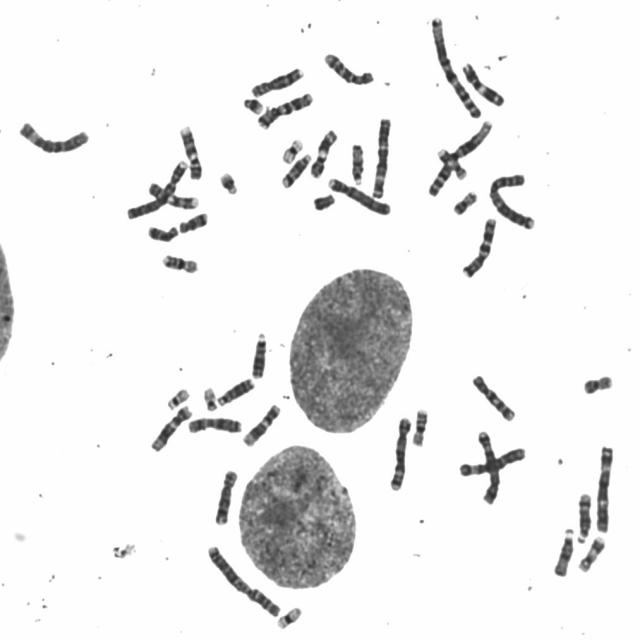A1: (427, 10, 485, 120), (424, 114, 496, 198)
A2: (203, 538, 284, 620), (486, 167, 539, 230)
A3: (368, 111, 395, 199), (592, 439, 617, 533)
B4: (122, 154, 190, 222), (324, 171, 395, 217)
B5: (473, 424, 503, 506), (386, 410, 414, 493)
C10: (468, 368, 519, 422), (321, 46, 378, 86)
C11: (458, 56, 508, 108), (307, 124, 341, 179)
C12: (148, 399, 195, 453), (240, 398, 284, 448)
C6: (14, 115, 93, 155), (456, 440, 530, 478)
C7: (459, 211, 500, 279), (254, 86, 317, 130)
C8: (248, 61, 307, 98), (211, 463, 241, 527)
C9: (144, 176, 202, 211), (176, 120, 204, 180)
D13: (214, 372, 257, 407), (248, 327, 270, 380)
D14: (278, 148, 314, 190), (574, 487, 595, 543)
D15: (551, 522, 577, 578), (348, 138, 368, 186)
E16: (158, 248, 202, 274), (408, 403, 432, 448)
E17: (574, 531, 608, 573), (434, 143, 469, 180)
E18: (176, 206, 211, 234), (144, 220, 181, 243)
F19: (272, 600, 305, 630), (278, 132, 306, 164)
F20: (579, 368, 617, 395), (450, 185, 481, 216)
G21: (216, 166, 241, 196), (240, 92, 266, 116)
G22: (164, 382, 192, 410), (200, 381, 220, 413)
X: (184, 411, 246, 435)
Y: (310, 187, 338, 212)
